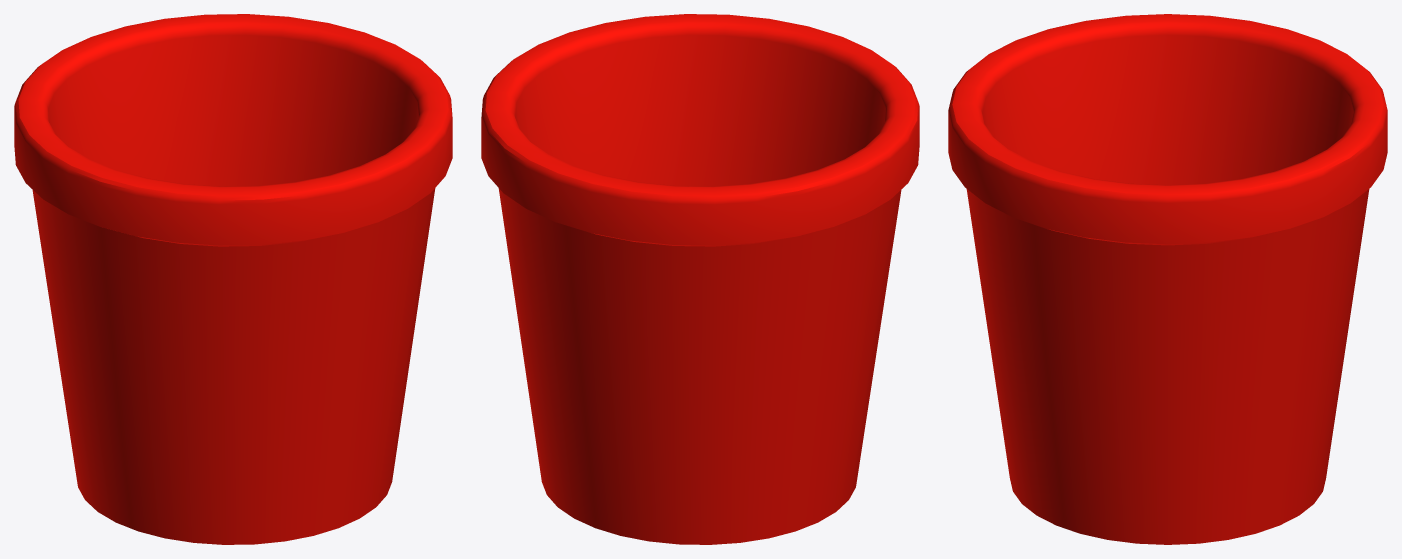
File: Bucket.fbx
3 views of the same model, side by side, from view 1: azimuth 30°, elevation 25°; view 2: azimuth 150°, elevation 25°; view 3: azimuth 270°, elevation 25° (orthographic).
Visible parts, largest first — view 1: Bucket; view 2: Bucket; view 3: Bucket.
Part boxes in pixels (left/top/right/bottom): Bucket: left=14, top=14, right=452, bottom=544; Bucket: left=481, top=14, right=919, bottom=544; Bucket: left=948, top=14, right=1387, bottom=544.
Size of the model in its own units: 73.09 by 68.9 by 73.06.
